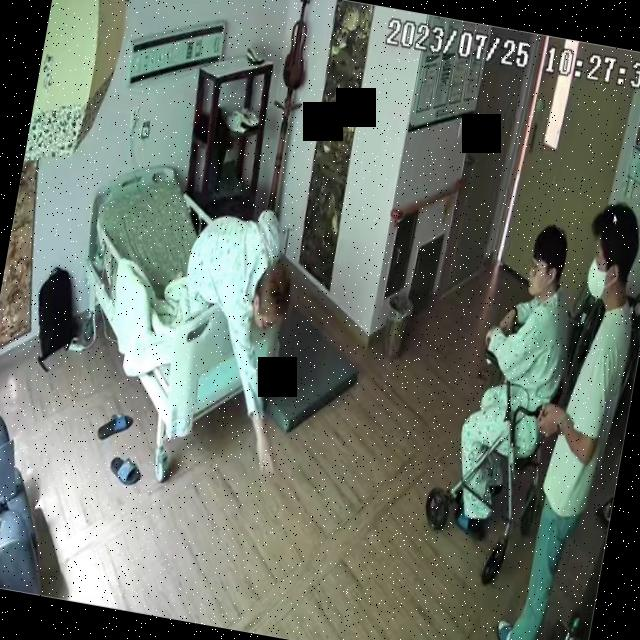danger: (148, 196, 319, 487)
patient: (148, 197, 319, 488)
